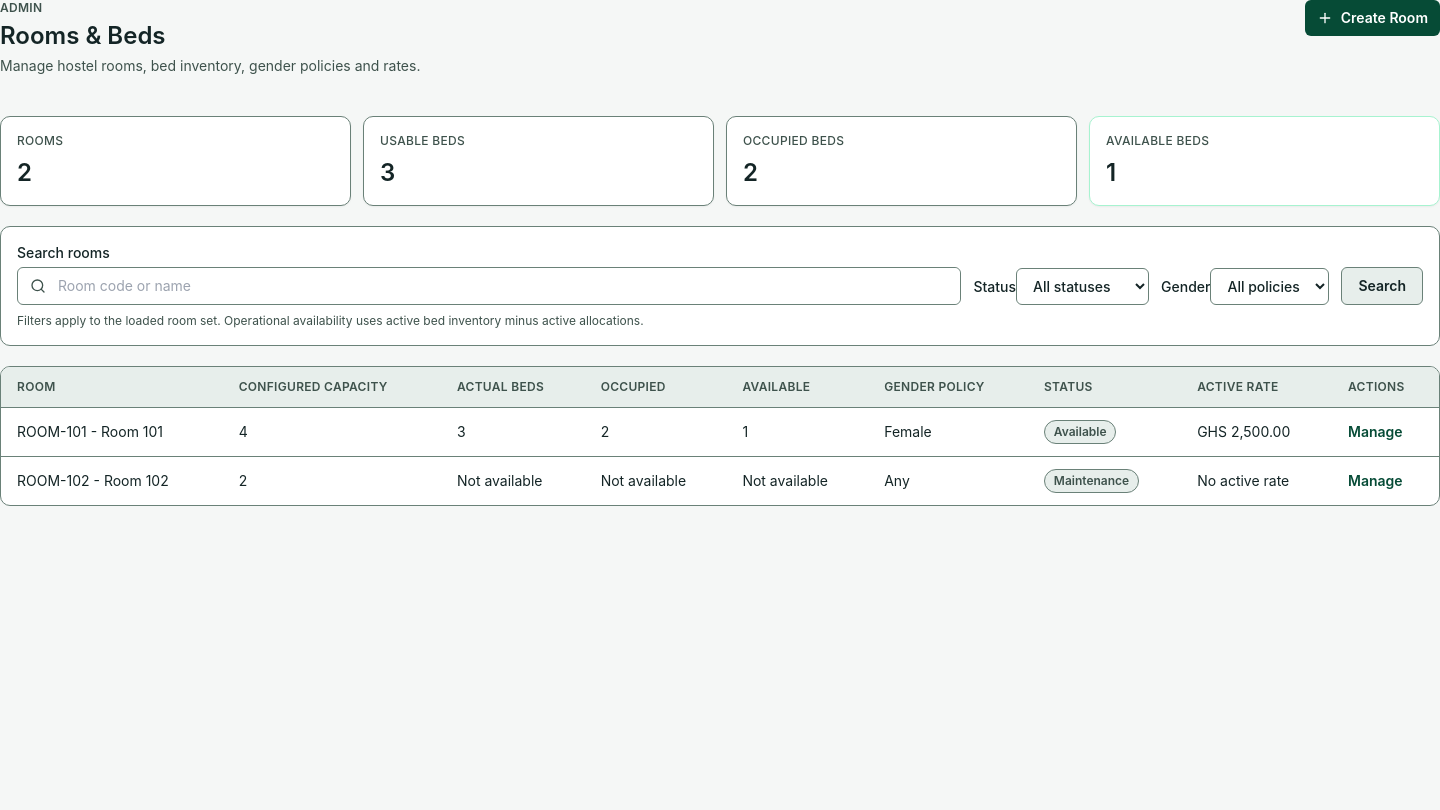
RoomsPage › shows capacity, occupancy, usable beds and Change Capacity for authorized roles
This screenshot has width=1440, height=810.
What coordinates should you click on to do the following:
click the button "Manage" in the row of "ROOM-101 - Room 101"
I would click on:
 (1375, 432)
Its box is [1348, 422, 1403, 442].
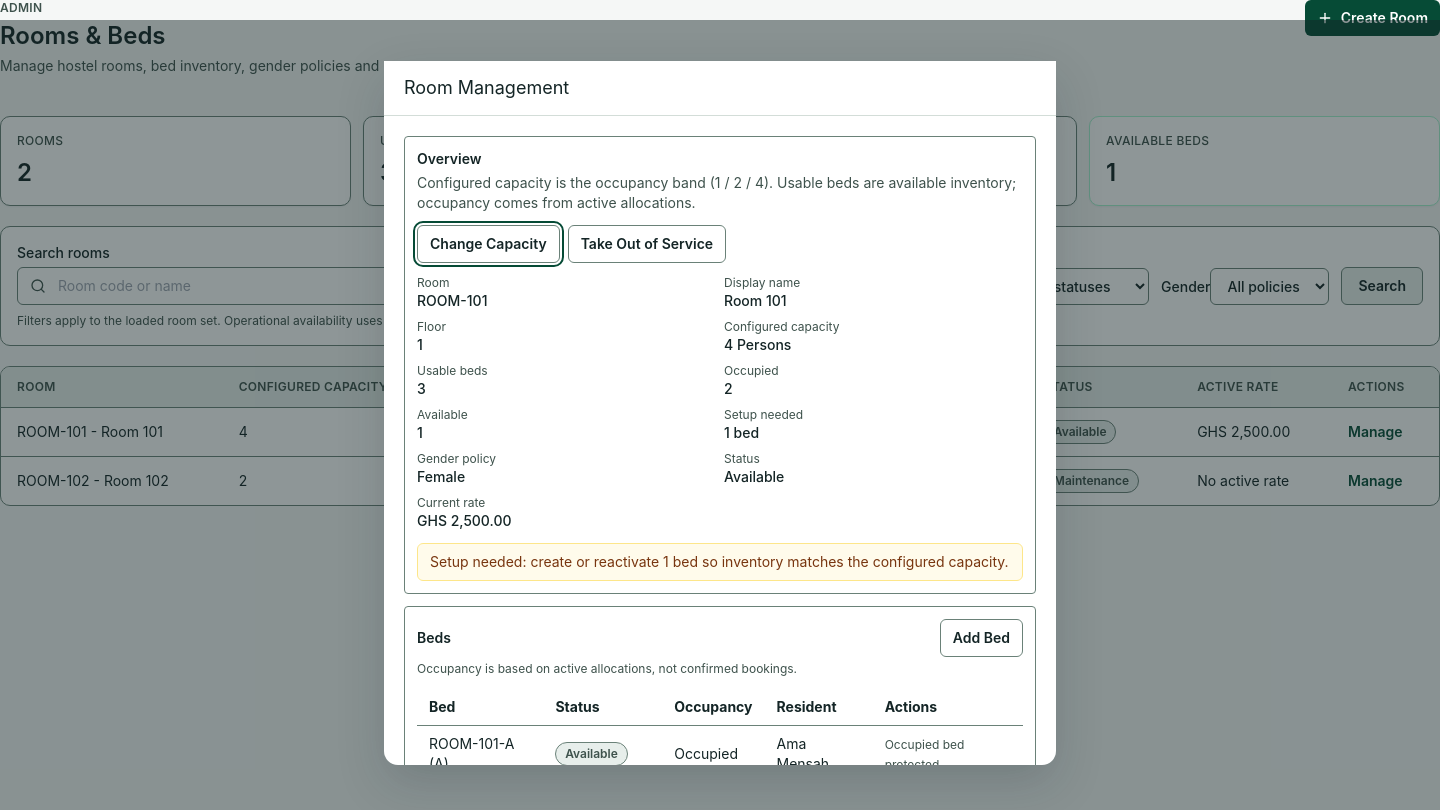
Expected: the text "4 Persons" is shown, [724, 336, 791, 353]
Expected: the text "Usable beds" is shown, [417, 363, 488, 378]
Expected: the text "Setup needed" is shown, [724, 407, 803, 422]
